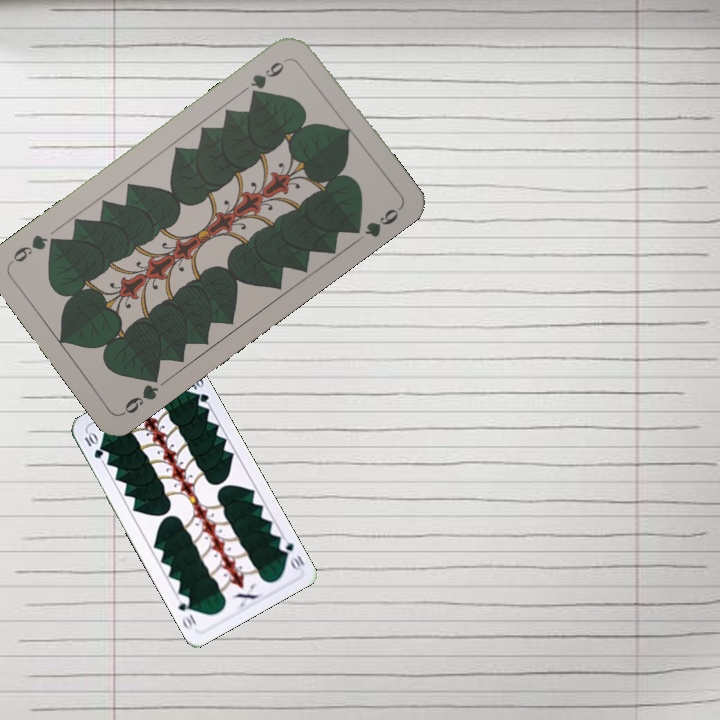G10: (274, 537, 307, 572), (80, 428, 106, 461)
G9: (246, 54, 292, 100), (119, 368, 162, 417)
